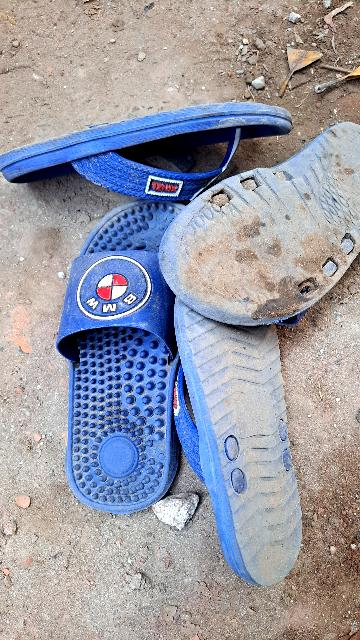sandal: (144, 93, 360, 357), (44, 187, 199, 516), (178, 284, 315, 594), (2, 97, 296, 203)
